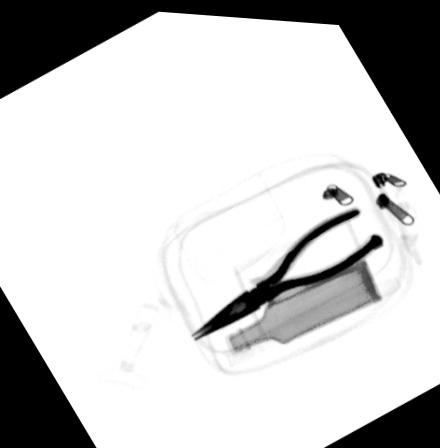Pliers: (188, 200, 385, 339)
